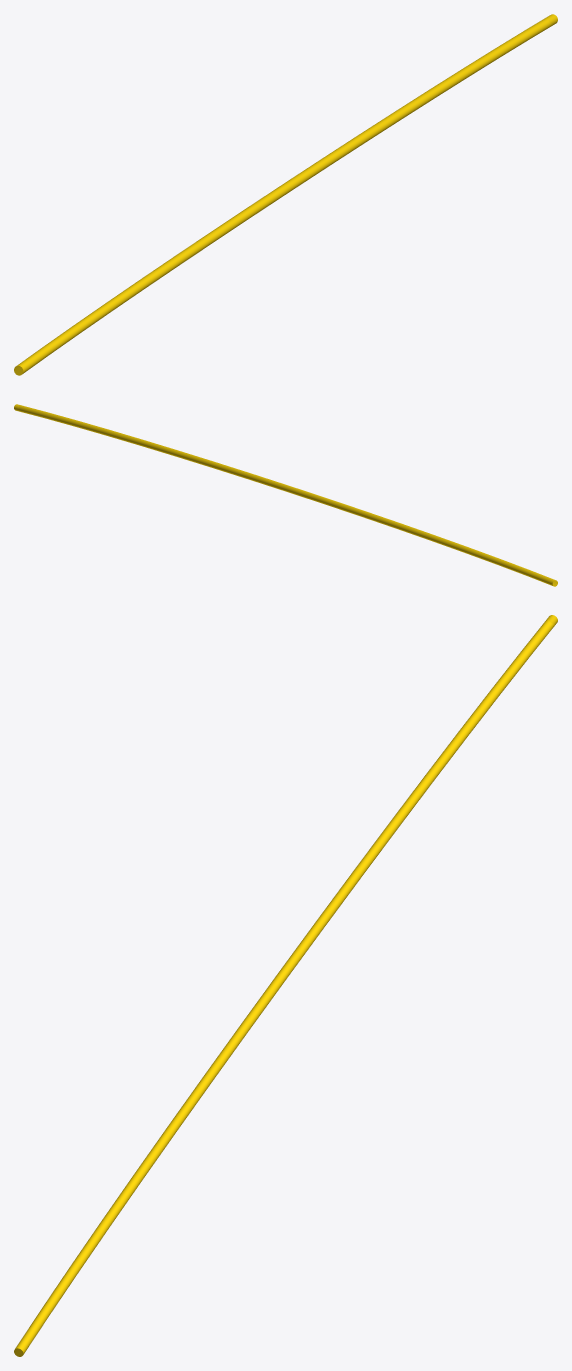
The model's file is Event_421556567_track_12.fbx.
3 renders of one model, top to bottom at view 1: azimuth 90°, elevation 25°; view 2: azimuth 150°, elevation 25°; view 3: azimuth 270°, elevation 25°, orthographic. The views are drawn at different scales.
Visible parts, largest first — view 1: Model; view 2: Model; view 3: Model.
Boxes of the visible parts, <box> form: Model: <box>14,14,557,375</box>; Model: <box>14,404,557,586</box>; Model: <box>14,615,557,1356</box>.
Bounding box in the file's own units: 5 × 0.8577 × 2.11.
